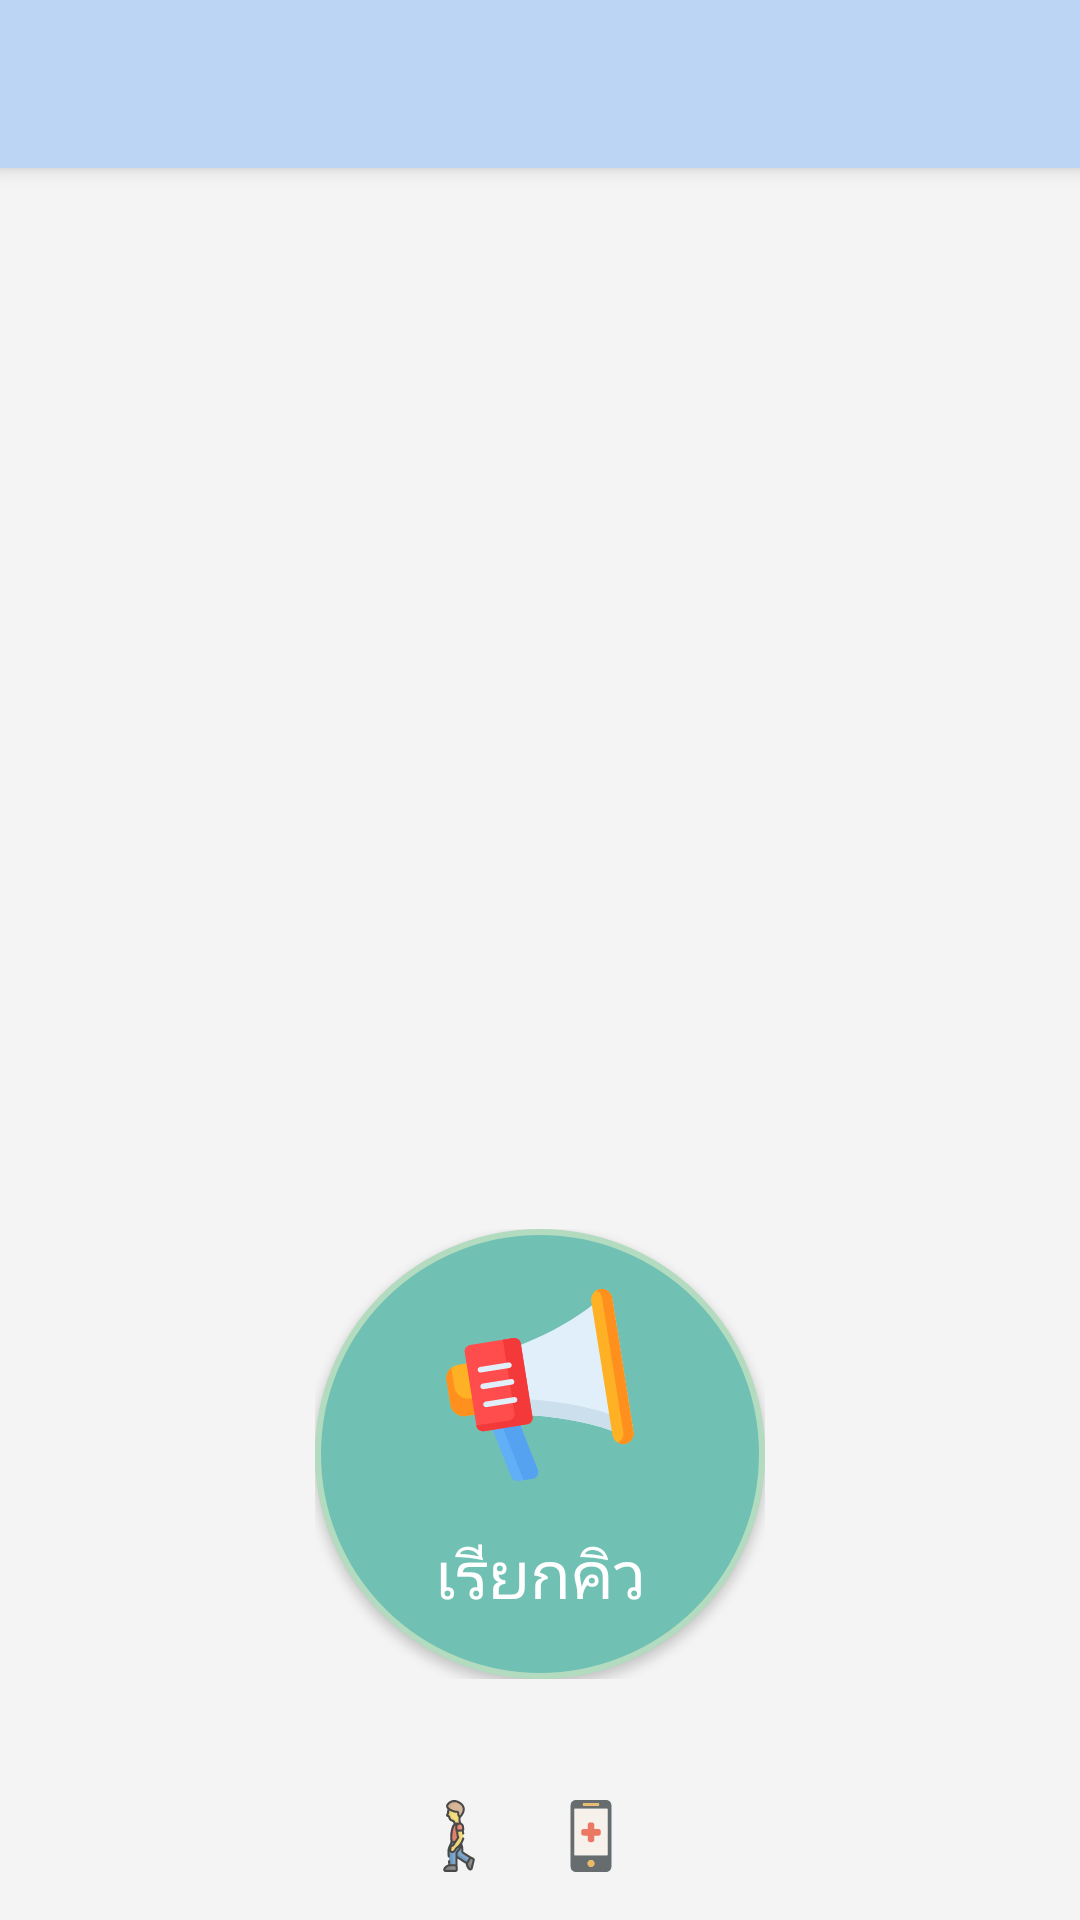

Where icons sit on this 1080 × 1920 app screen, as (x1, y1, x2, y2):
technology: (570, 1800, 612, 1872)
walk: (443, 1800, 475, 1872)
